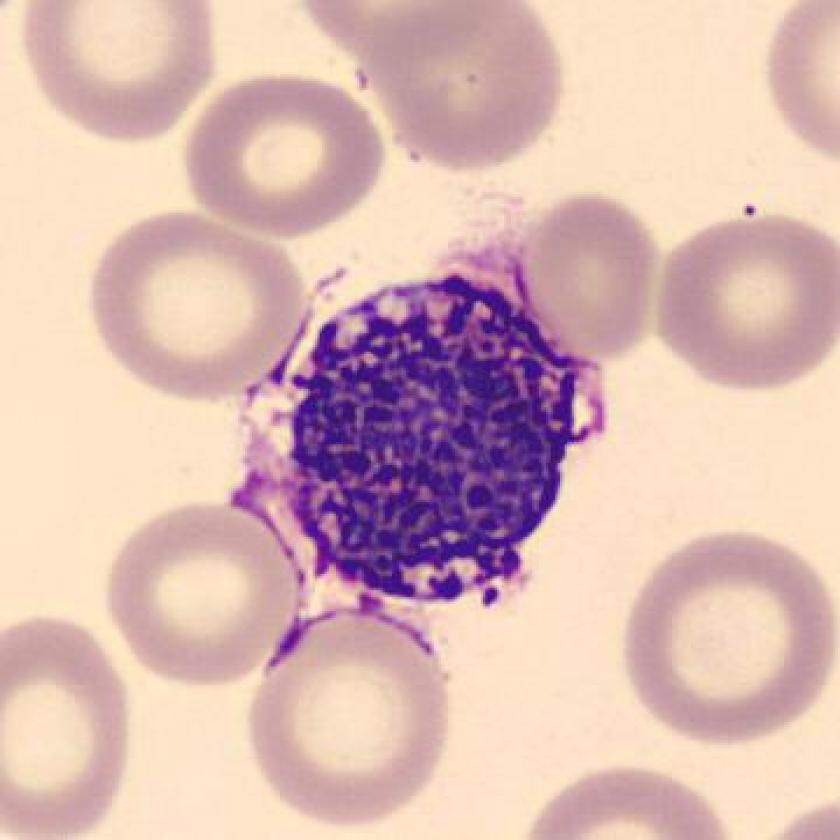basophil: (276, 249, 594, 612)
